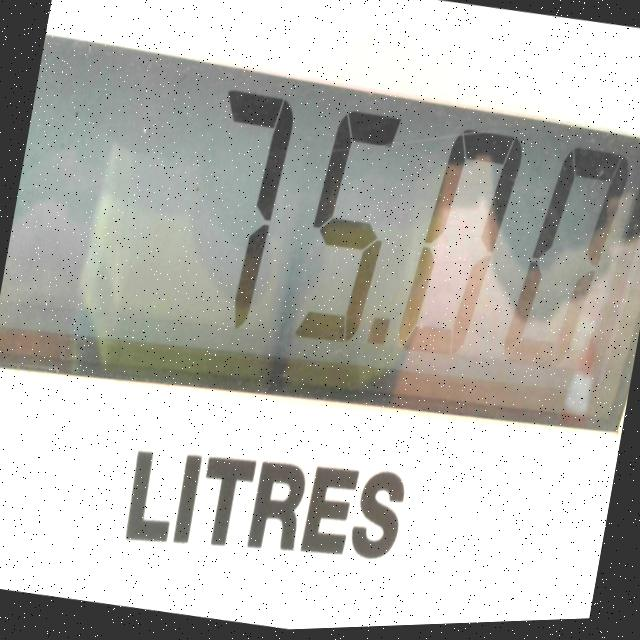.: (354, 285, 411, 385)
0: (384, 111, 531, 402), (490, 136, 638, 400)
5: (276, 94, 426, 388)
7: (174, 69, 332, 360)
